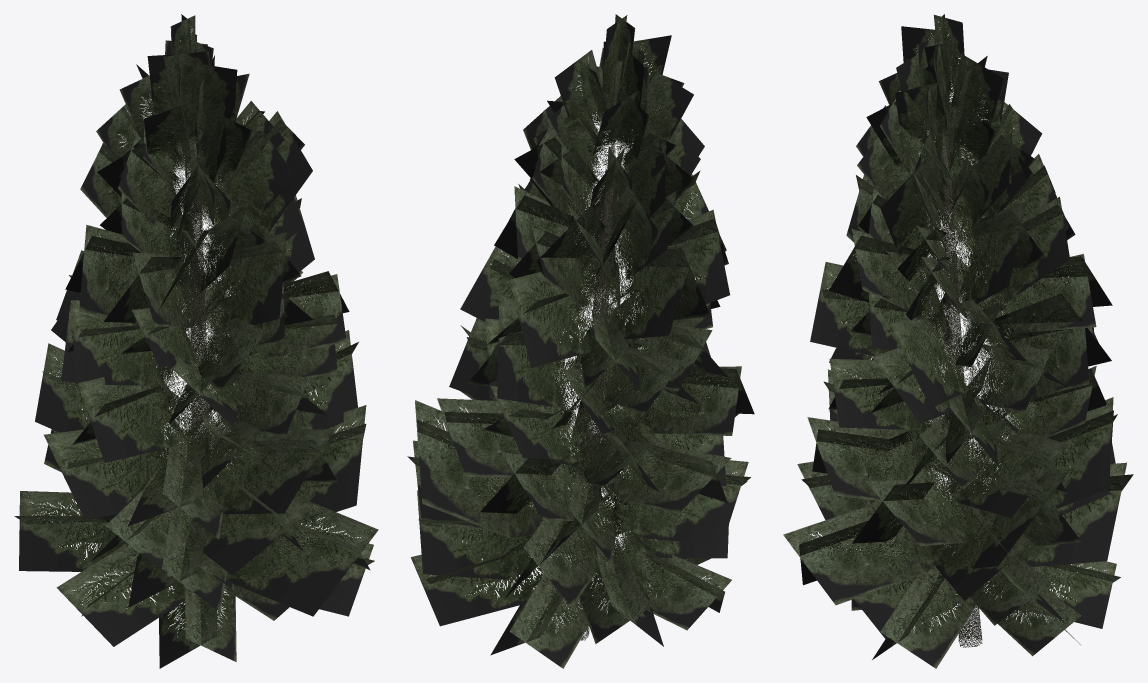
Rendered from tree_spruce.obj.
3 renders of one model, left to right at view 1: azimuth 30°, elevation 25°; view 2: azimuth 150°, elevation 25°; view 3: azimuth 270°, elevation 25°, orthographic. The views are drawn at different scales.
Visible parts, largest first — view 1: tree_spruce; view 2: tree_spruce; view 3: tree_spruce.
Part boxes in pixels (x1,y1,x2,y2): tree_spruce: (14, 14, 378, 668); tree_spruce: (407, 14, 754, 668); tree_spruce: (783, 14, 1133, 668).
Size of the model in its own units: 4.91 by 9.84 by 5.09.
